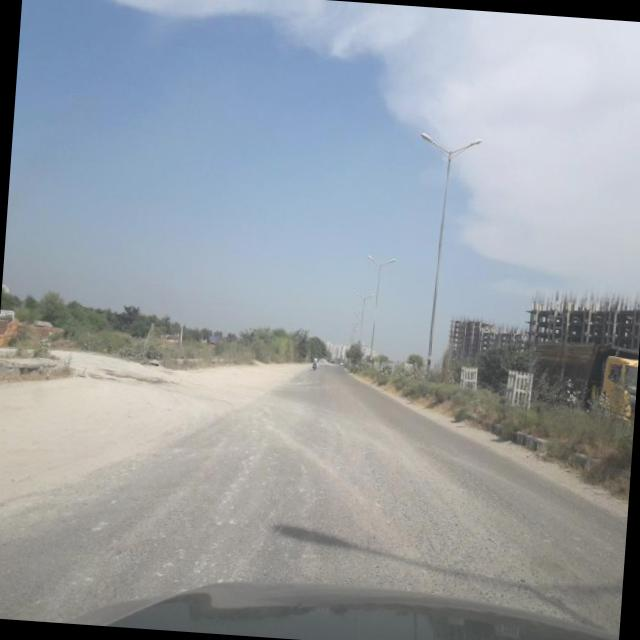pothole: (442, 448, 546, 541)
